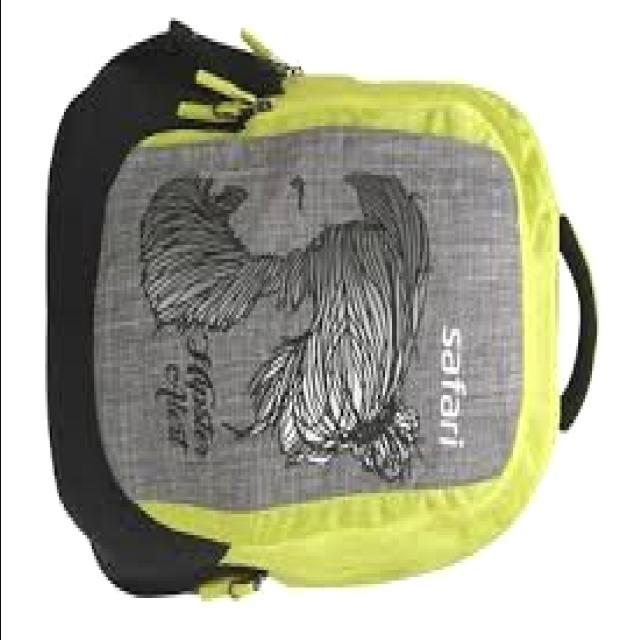backpack: (48, 19, 600, 603)
